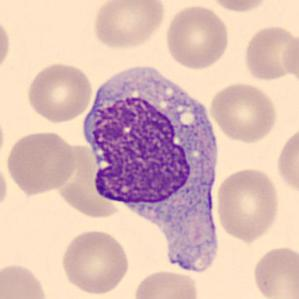Monocyte: (78, 54, 225, 258)
RBC: (214, 166, 282, 242), (58, 227, 131, 296), (3, 129, 78, 196), (54, 144, 120, 218), (162, 3, 232, 71), (24, 60, 95, 125), (208, 80, 279, 144), (90, 0, 167, 51), (242, 23, 297, 83), (250, 243, 298, 299), (131, 268, 201, 299), (0, 259, 51, 298), (274, 124, 298, 196), (206, 0, 272, 14), (0, 13, 13, 77)
